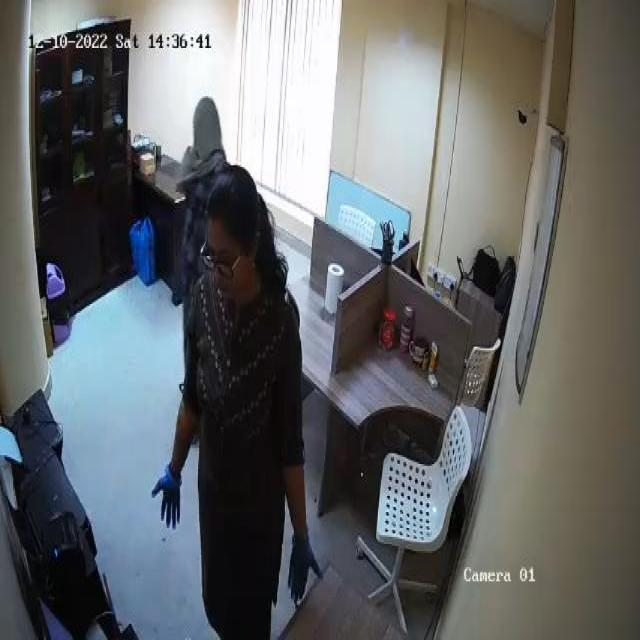gloved_hand: (286, 523, 322, 603), (150, 459, 186, 533)
